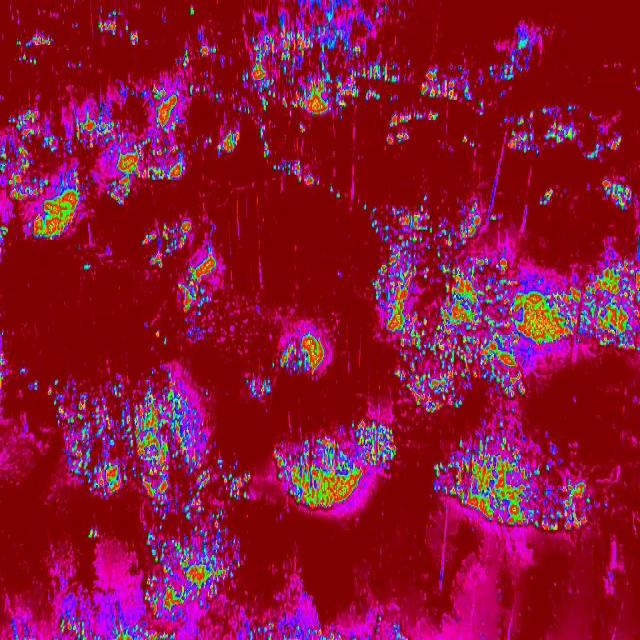fire: (361, 196, 528, 413), (49, 371, 222, 522), (432, 421, 604, 534), (239, 2, 408, 114), (77, 80, 192, 208), (529, 244, 640, 366), (0, 98, 78, 250), (272, 419, 396, 511), (140, 218, 223, 338), (143, 522, 241, 617), (485, 25, 547, 84), (385, 107, 441, 151), (243, 617, 349, 640), (420, 64, 474, 104), (279, 330, 323, 376), (538, 102, 580, 147), (504, 108, 538, 158), (270, 158, 318, 188), (111, 619, 175, 640), (58, 612, 104, 640), (222, 464, 252, 506), (586, 135, 626, 161), (602, 178, 632, 212), (216, 130, 242, 160), (243, 375, 272, 400), (98, 9, 119, 37), (260, 119, 272, 160), (24, 32, 50, 49), (124, 22, 140, 48), (390, 620, 406, 640), (17, 52, 38, 67), (539, 187, 555, 205), (200, 42, 218, 58), (460, 134, 476, 151), (0, 341, 6, 385), (328, 184, 341, 203), (180, 48, 190, 72), (374, 615, 385, 634), (28, 378, 40, 394), (477, 98, 486, 117), (87, 529, 100, 540), (298, 121, 306, 135), (74, 20, 82, 34), (18, 366, 30, 375), (74, 60, 86, 69), (161, 337, 170, 347), (82, 264, 91, 274), (212, 92, 221, 102), (200, 84, 208, 95), (15, 37, 22, 49), (337, 112, 344, 124), (204, 70, 212, 80), (189, 5, 196, 16), (0, 328, 6, 338), (588, 112, 594, 121), (270, 360, 275, 368)
